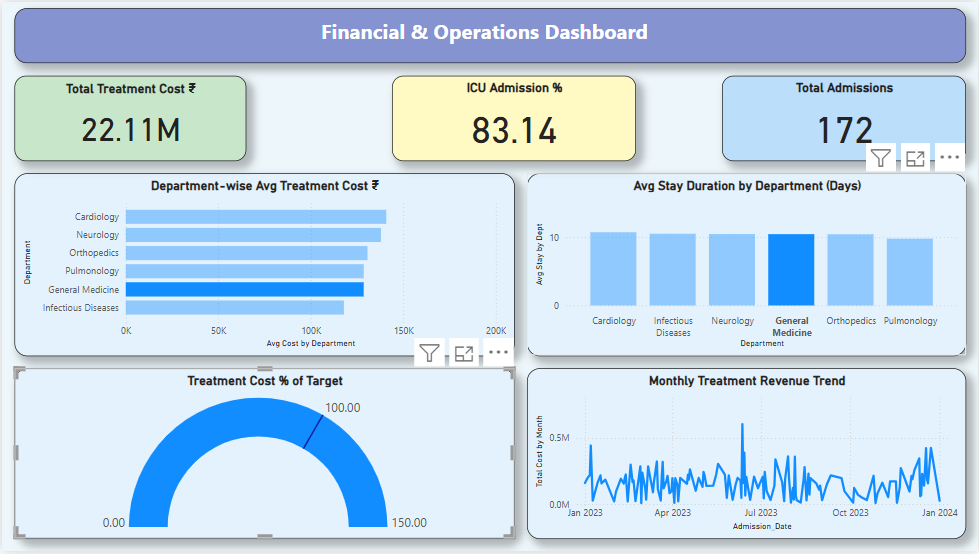

What the dashboard file says about the page in this screenshot:
{"tool":"powerbi","page":{"name":"Page 3","canvas":[1280,720],"ordinal":2},"visuals":[{"type":"textbox","box":[16,8,1248,72],"z":0},{"type":"barChart","title":"Department-wise Avg Treatment Cost ₹","fields":{"Category":["Sheet1.Department"],"Y":["Sheet1.Avg Cost by Department"]},"box":[16,224,656,240],"z":1000},{"type":"card","title":"Total Treatment Cost ₹","fields":{"Values":["Sum(Sheet1.Treatment_Cost)"]},"box":[16,96,304,112],"z":2000},{"type":"card","title":"Total Admissions","fields":{"Values":["Sheet1.Total Admissions"]},"box":[944,96,320,112],"z":3000},{"type":"gauge","fields":{"Y":["Sheet1.Treatment Cost % of Target"]},"box":[16,480,656,224],"z":4000},{"type":"clusteredColumnChart","title":"Avg Stay Duration by Department (Days)","fields":{"Category":["Sheet1.Department"],"Y":["Sheet1.Avg Stay by Dept"]},"box":[688,224,576,240],"z":5000},{"type":"lineChart","title":"Monthly Treatment Revenue Trend","fields":{"Category":["Sheet1.Admission_Date"],"Y":["Sheet1.Total Cost by Month"]},"box":[688,480,576,224],"z":6000},{"type":"card","title":"ICU Admission % ","fields":{"Values":["Sheet1.ICU Admission %"]},"box":[512,96,320,112],"z":7000}]}

Visuals, with their boxes in screenshot pixels (x1, y1, x2, y2), scaled from the page's 1280x720 canvas onto the 979x554 screenshot:
textbox: box(12, 6, 967, 62)
"Department-wise Avg Treatment Cost ₹" barChart: box(12, 172, 514, 357)
"Total Treatment Cost ₹" card: box(12, 74, 245, 160)
"Total Admissions" card: box(722, 74, 967, 160)
gauge - Sheet1.Treatment Cost % of Target: box(12, 369, 514, 542)
"Avg Stay Duration by Department (Days)" clusteredColumnChart: box(526, 172, 967, 357)
"Monthly Treatment Revenue Trend" lineChart: box(526, 369, 967, 542)
"ICU Admission % " card: box(392, 74, 636, 160)
